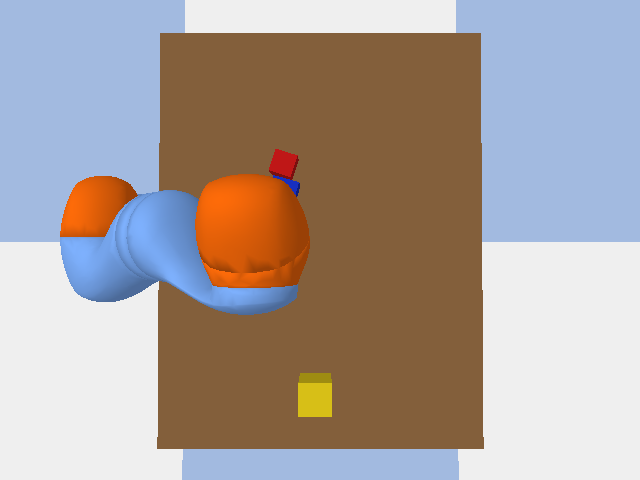blue_obj: (273, 175, 299, 196)
red_obj: (269, 149, 298, 179)
yellow_obj: (298, 373, 331, 416)
